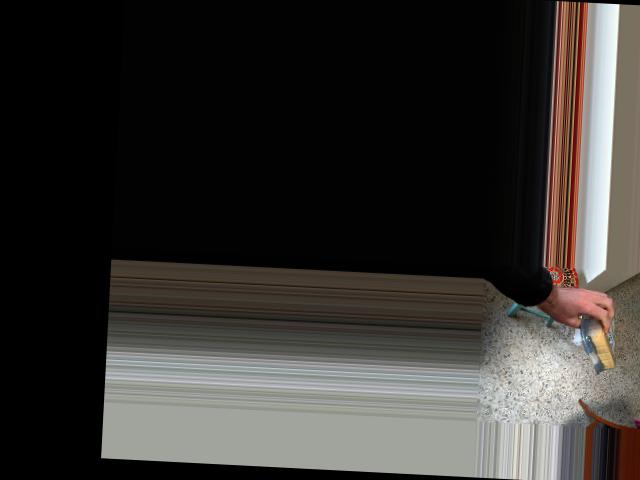cheese: (574, 289, 618, 379)
